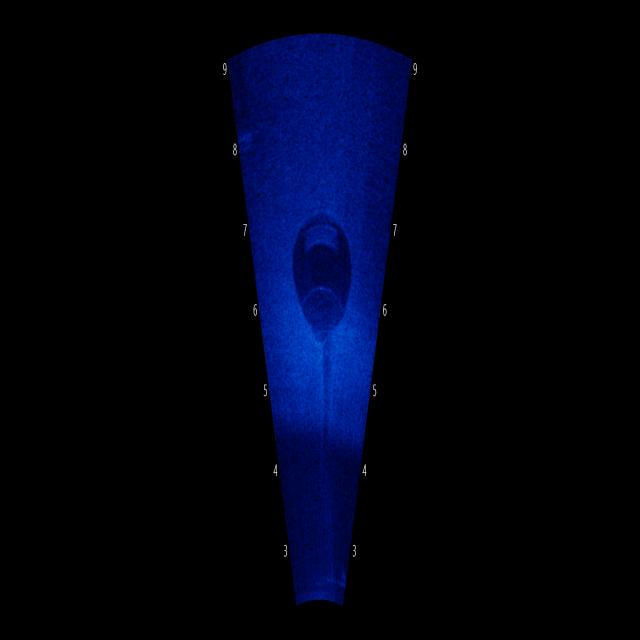circle: (285, 180, 360, 355)
